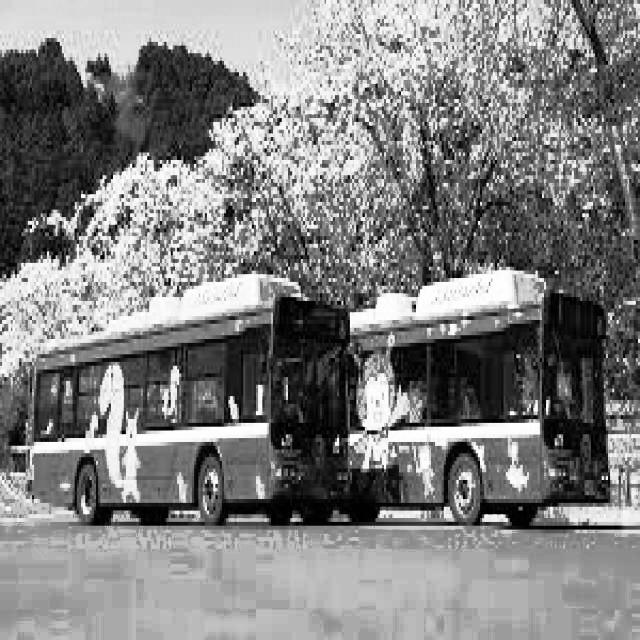Bus: (12, 274, 358, 522), (353, 251, 617, 559)
